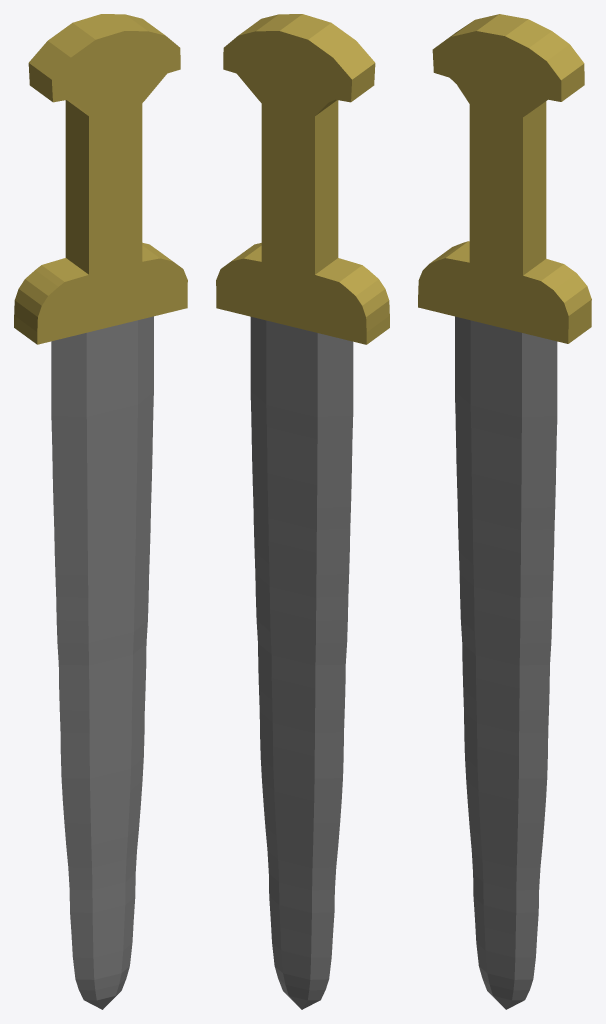
File: knife1.fbx
3 views of the same model, side by side, from view 1: azimuth 30°, elevation 25°; view 2: azimuth 150°, elevation 25°; view 3: azimuth 330°, elevation 25° (orthographic).
Visible parts, largest first — view 1: knife1; view 2: knife1; view 3: knife1.
Part boxes in pixels (x1,y1,x2,y2): knife1: (14,14,187,1009); knife1: (216,14,389,1009); knife1: (418,14,591,1009).
Bounding box in the file's own units: 14.78 × 92.41 × 3.95.
